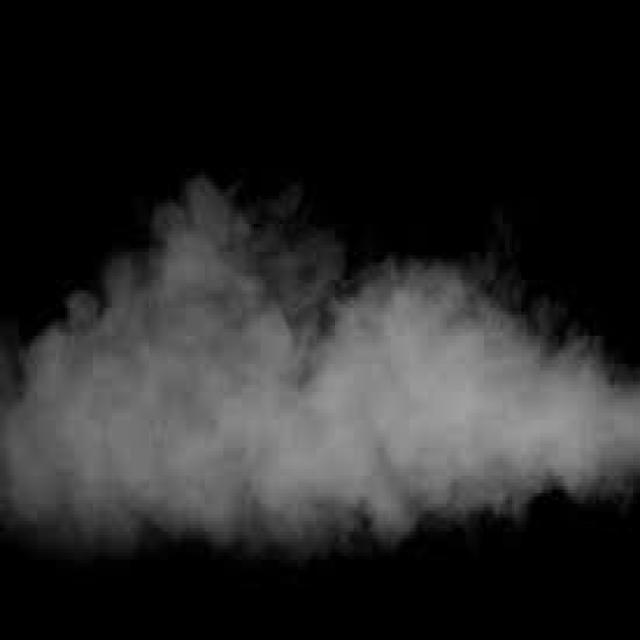Smoke: (2, 171, 640, 563)
